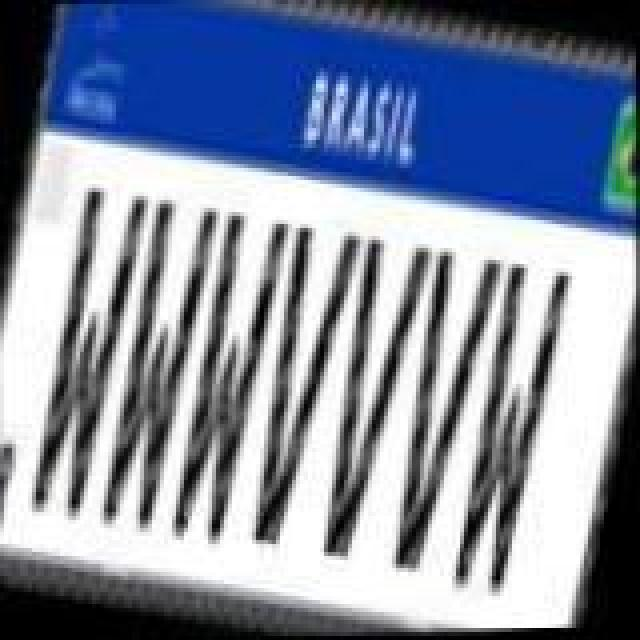V: (298, 230, 438, 570), (370, 242, 510, 582), (232, 218, 368, 558)
W: (156, 210, 300, 558), (16, 180, 156, 528), (84, 194, 224, 542), (438, 256, 578, 604)
